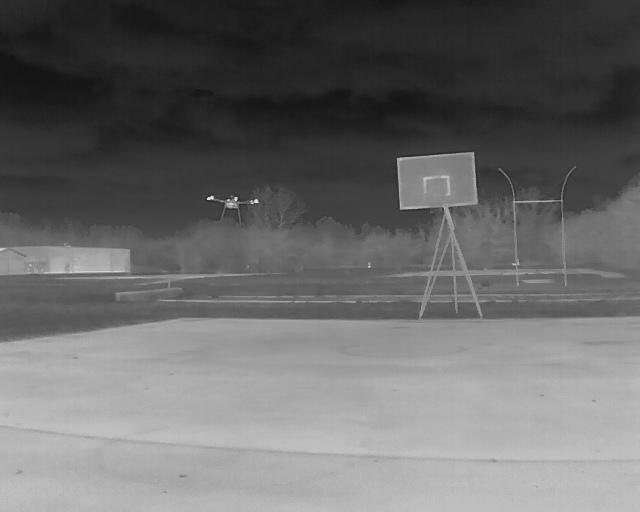drone: (202, 194, 259, 231)
